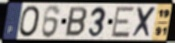3: (87, 5, 109, 39)
6: (41, 4, 61, 39)
B: (64, 6, 89, 38)
E: (110, 6, 137, 39)
O: (18, 5, 41, 38)
X: (131, 6, 158, 40)
